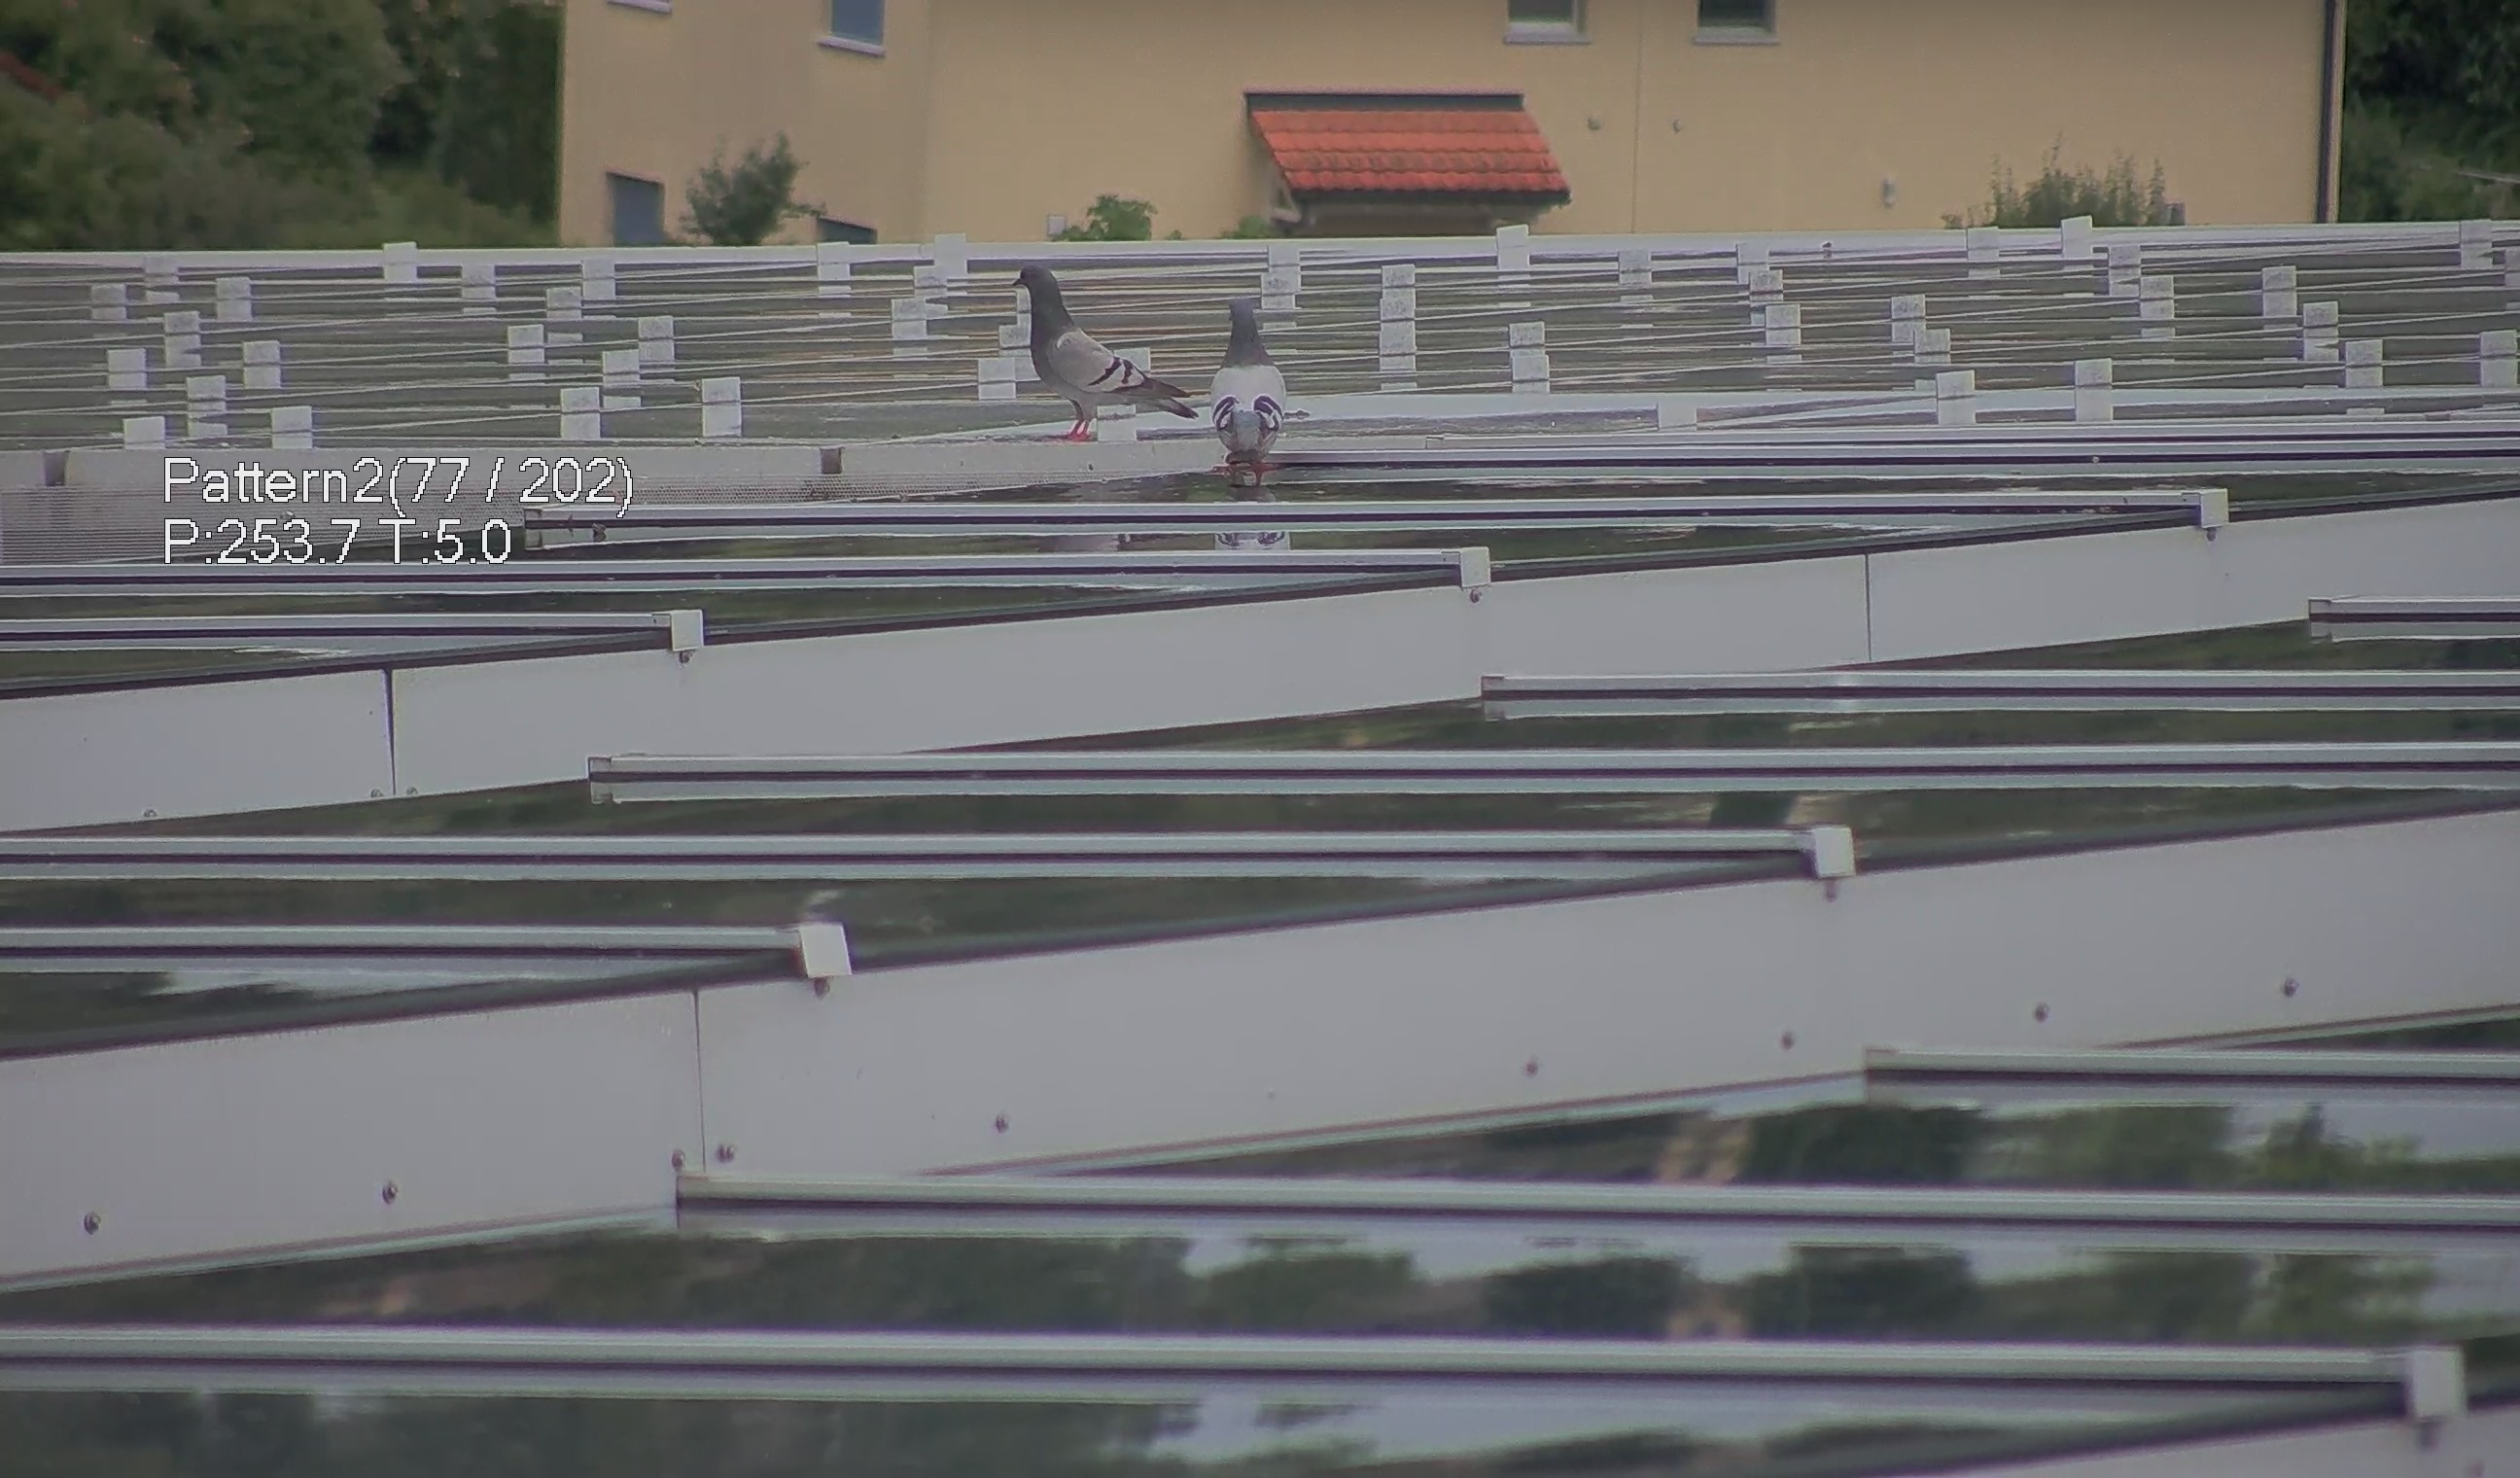Pigeon: (992, 238, 1176, 442), (1180, 271, 1301, 487)
